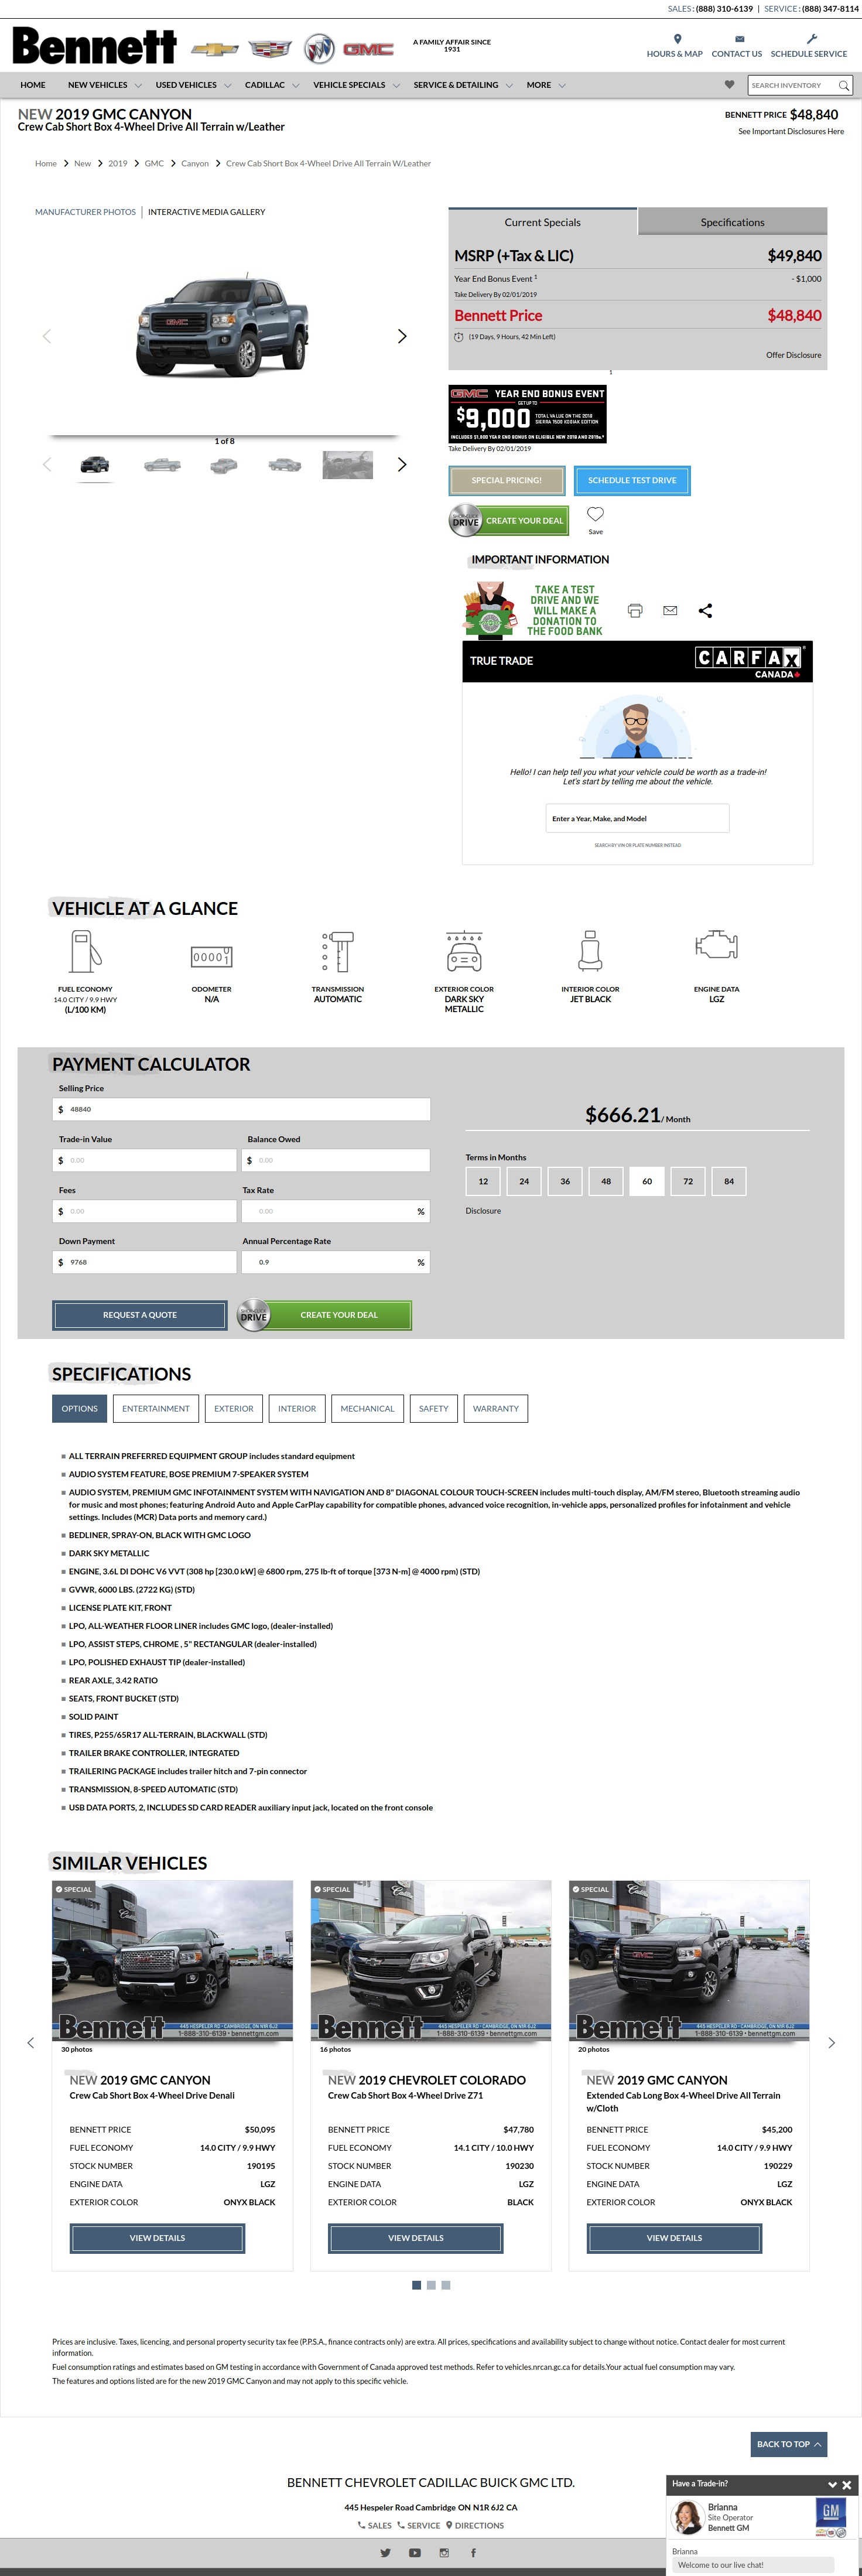car: (396, 457, 409, 473)
